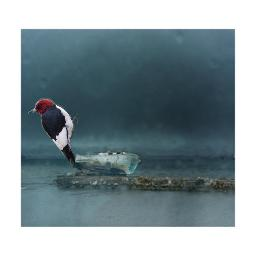Woodpecker: (25, 98, 79, 166)
